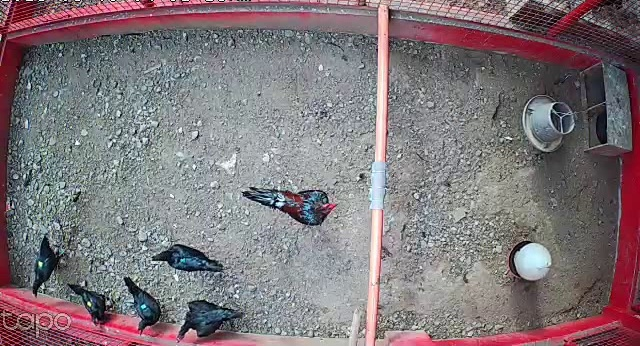Chicken: (173, 298, 247, 345), (120, 270, 170, 335), (32, 230, 71, 299), (149, 241, 224, 275), (68, 282, 115, 327)
Rooster: (235, 177, 338, 230)
Saddle_Color_Yellow: (87, 300, 93, 306)
Saddle_Color_YellowGreen: (37, 261, 45, 270)
